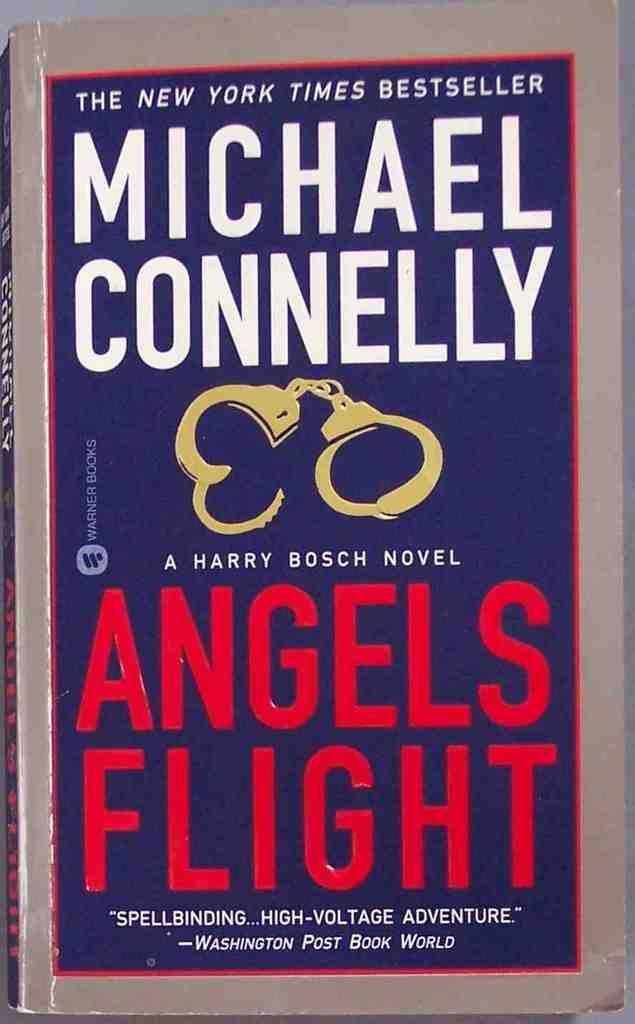book: (36, 39, 596, 873)
